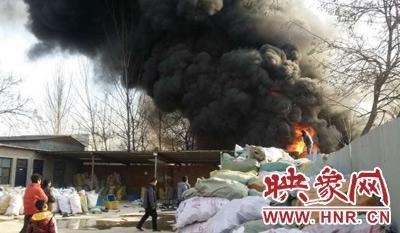fire: (289, 124, 317, 154)
